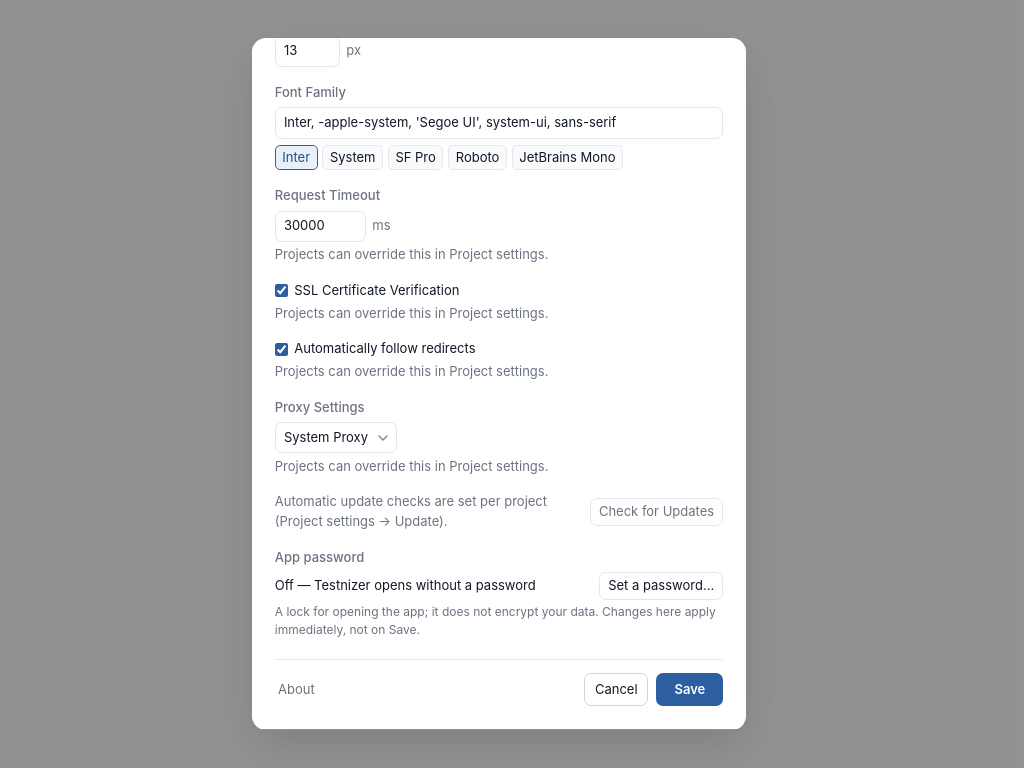
Test: Settings → App password → Set (review #13) › with the real store action: the session continues signed in, Settings shows On, no loader
The image size is (1024, 768).
(page scrolled)
Step 1. Click the button with test id "settings-app-password-set" → click(661, 586), box top-left (599, 572), bottom-right (723, 600)
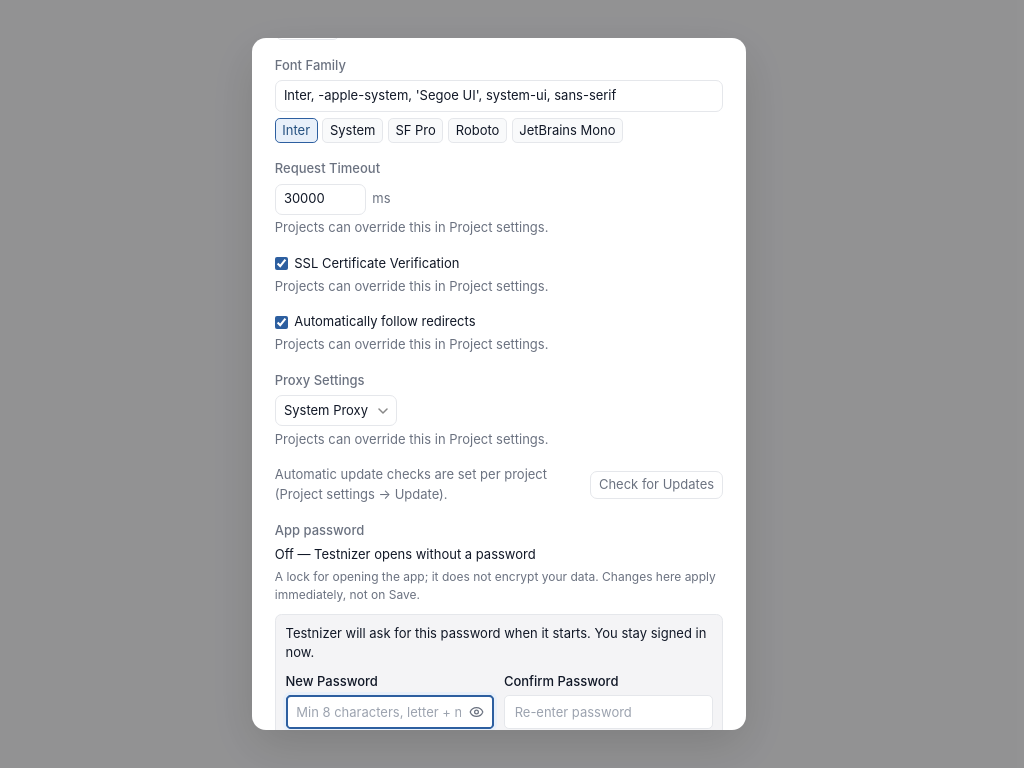
Step 2. Type "Secret123" into the password field with test id "password-set-new" → (390, 712), box top-left (286, 695), bottom-right (494, 729)
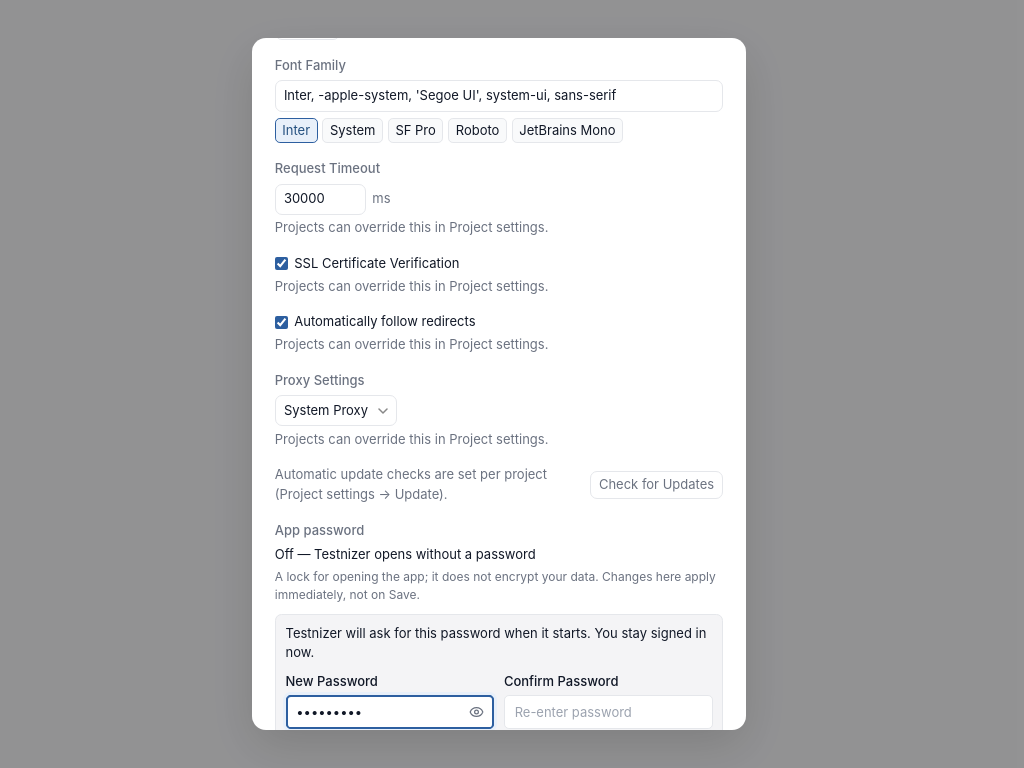
Step 3. Type "Secret123" into the password field with test id "password-set-confirm" → (608, 712), box top-left (504, 695), bottom-right (712, 729)
(page scrolled)
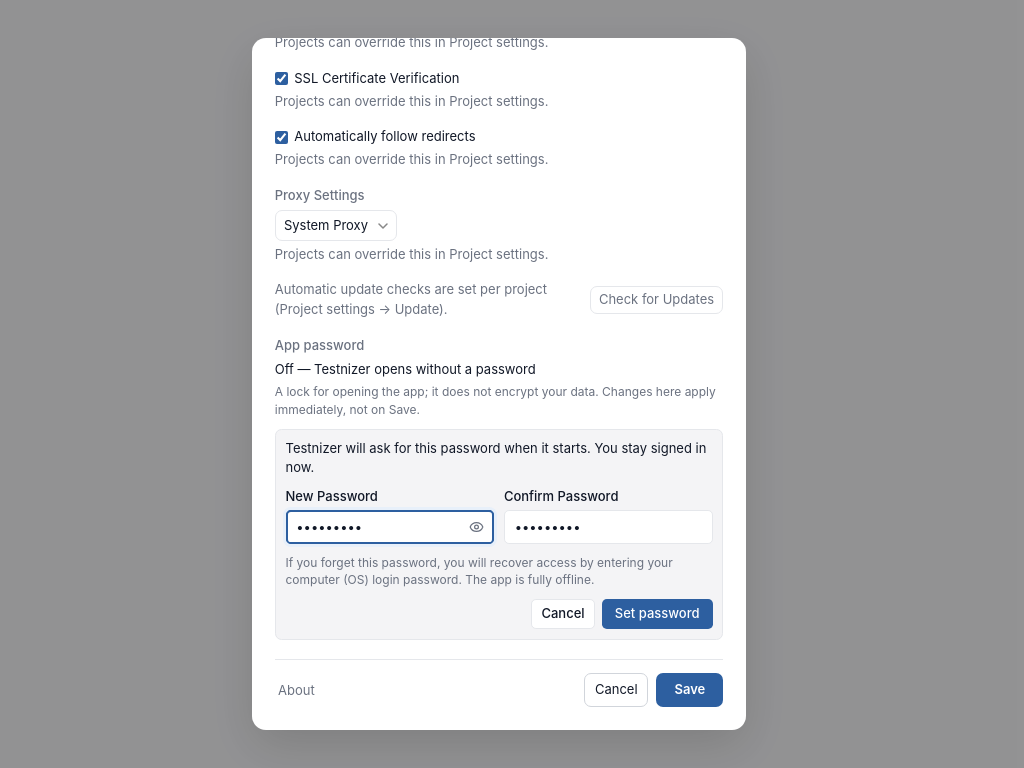
Step 4. Click the button with test id "password-set-submit" → click(657, 614), box top-left (602, 599), bottom-right (712, 629)
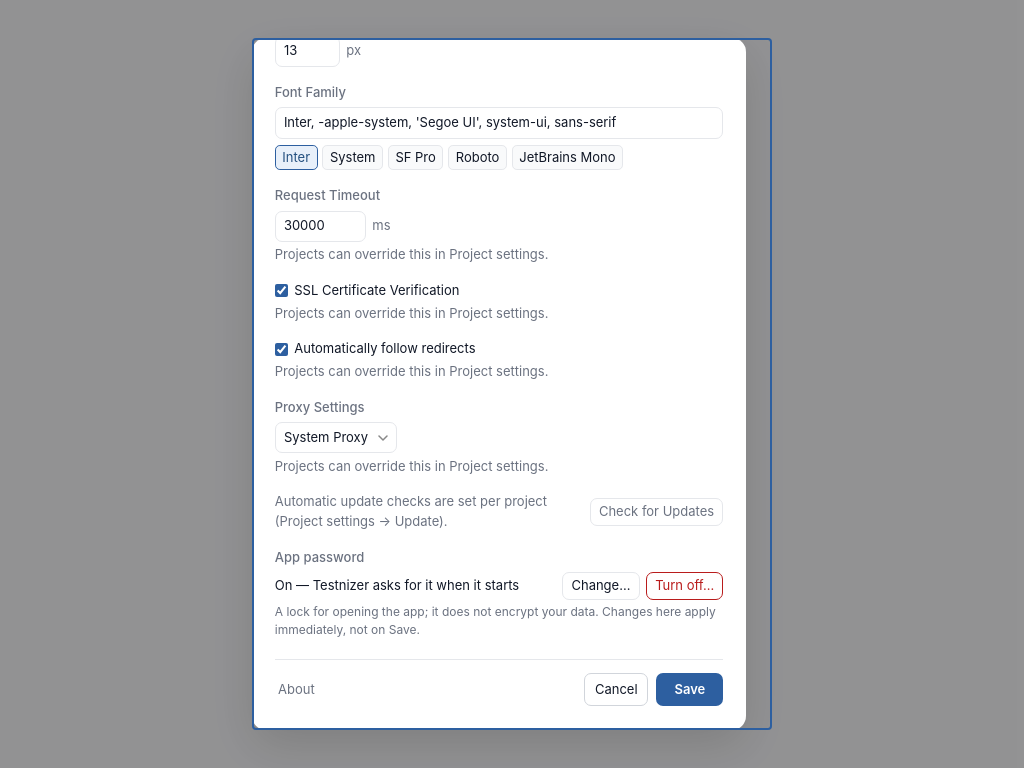
Now the button with test id "settings-app-password-disable" is shown, box top-left (646, 572), bottom-right (723, 600)
